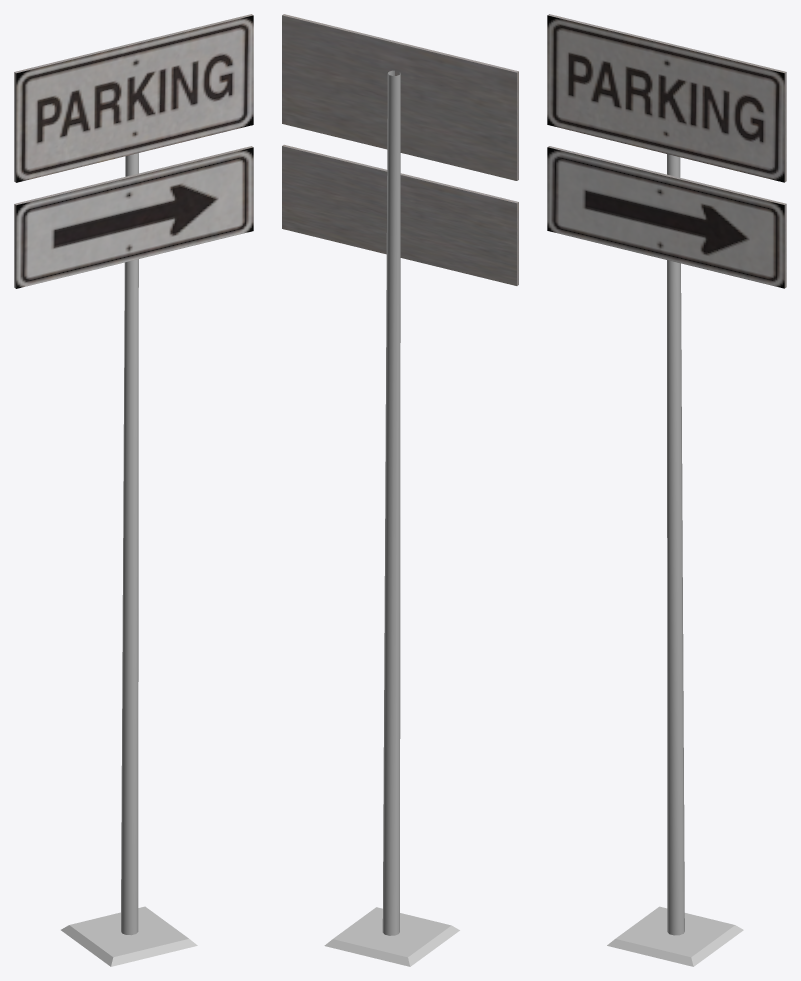
File: D_road_s_park_R.FBX
3 views of the same model, side by side, from view 1: azimuth 30°, elevation 25°; view 2: azimuth 150°, elevation 25°; view 3: azimuth 330°, elevation 25° (orthographic).
Parts seen in each view (by area): view 1: road_s_park_R; view 2: road_s_park_R; view 3: road_s_park_R.
Part boxes in pixels (x1,y1,x2,y2): road_s_park_R: (14, 14, 253, 966); road_s_park_R: (282, 14, 518, 966); road_s_park_R: (547, 14, 786, 966).
Size of the model in its own units: 2.82 by 1.04 by 10.22.
